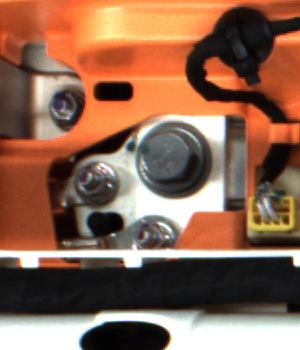nut_b: (130, 118, 218, 198)
screw_s: (70, 161, 118, 202), (133, 217, 176, 249), (45, 90, 79, 124)
